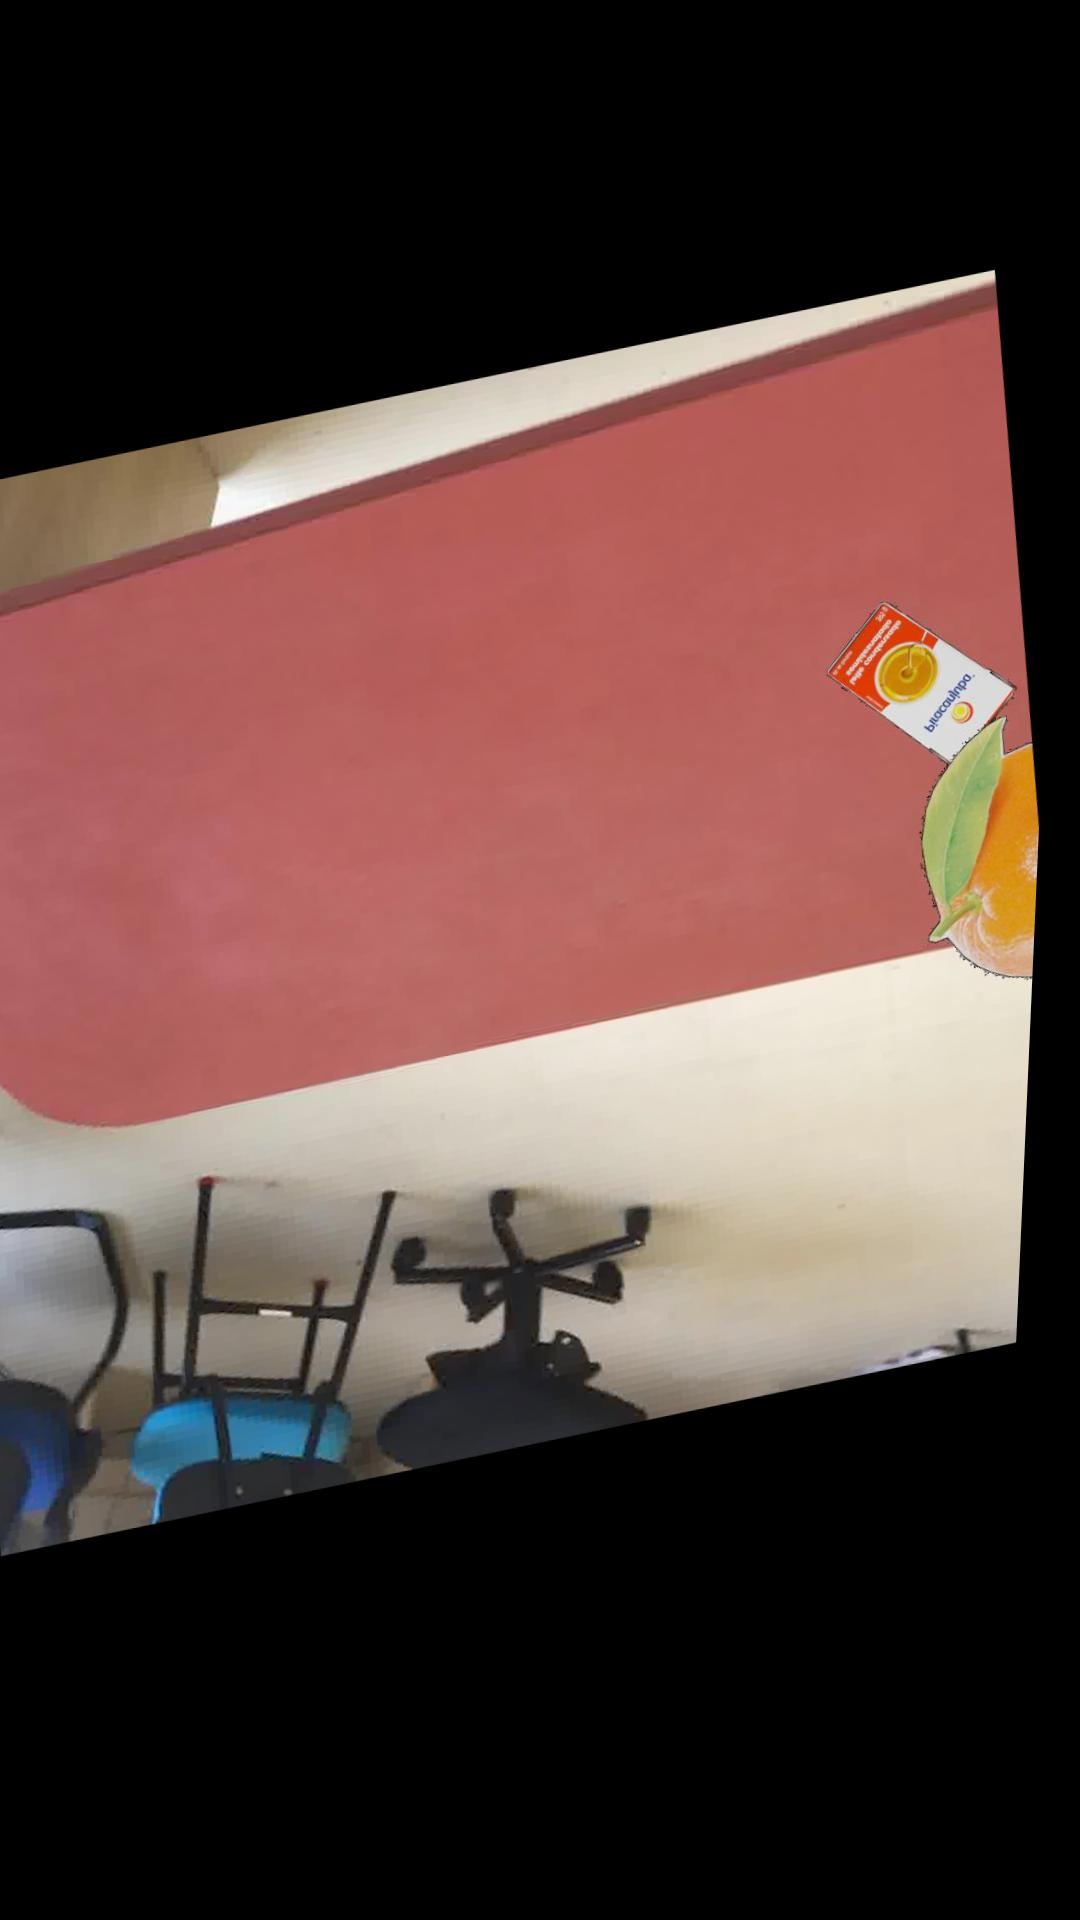orange: (930, 733, 1047, 996)
